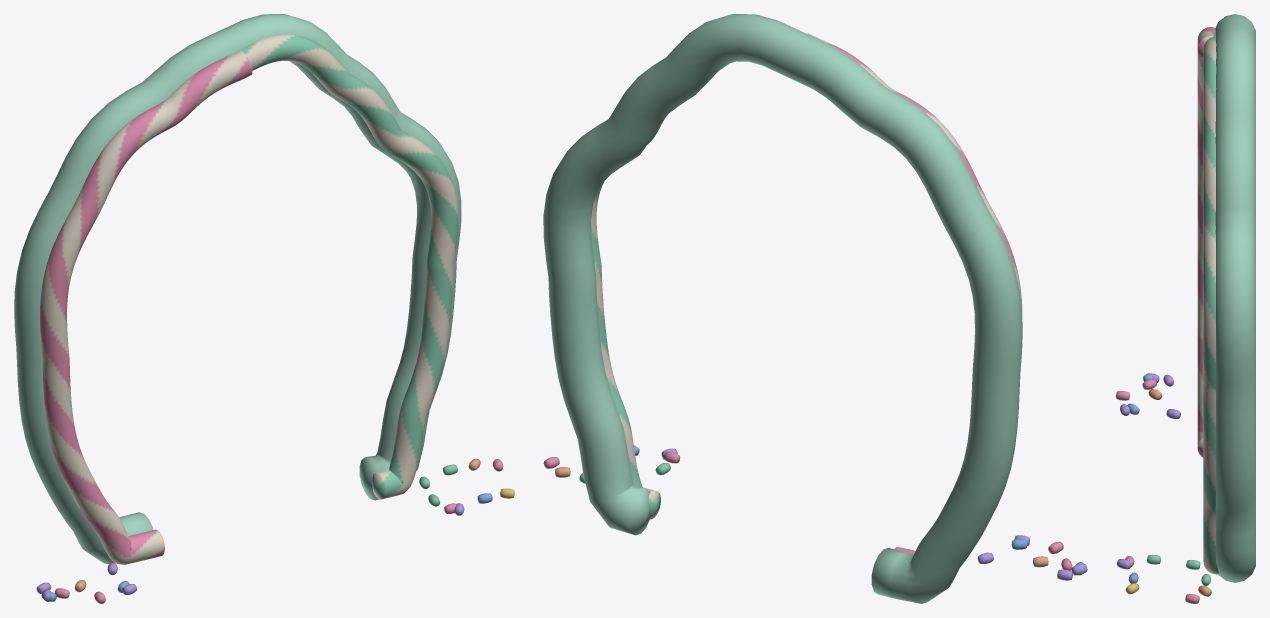
File: W6_CandyArch.fbx
3 views of the same model, side by side, from view 1: azimuth 30°, elevation 25°; view 2: azimuth 150°, elevation 25°; view 3: azimuth 270°, elevation 25° (orthographic). The views are drawn at different scales.
Parts seen in each view (by area): view 1: W6_CandyArch; view 2: W6_CandyArch; view 3: W6_CandyArch.
Part boxes in pixels (x1,y1,x2,y2): W6_CandyArch: [14, 14, 514, 603]; W6_CandyArch: [543, 14, 1087, 603]; W6_CandyArch: [1116, 14, 1255, 603].
Bounding box in the file's own units: 2.24 × 2.26 × 0.588.
